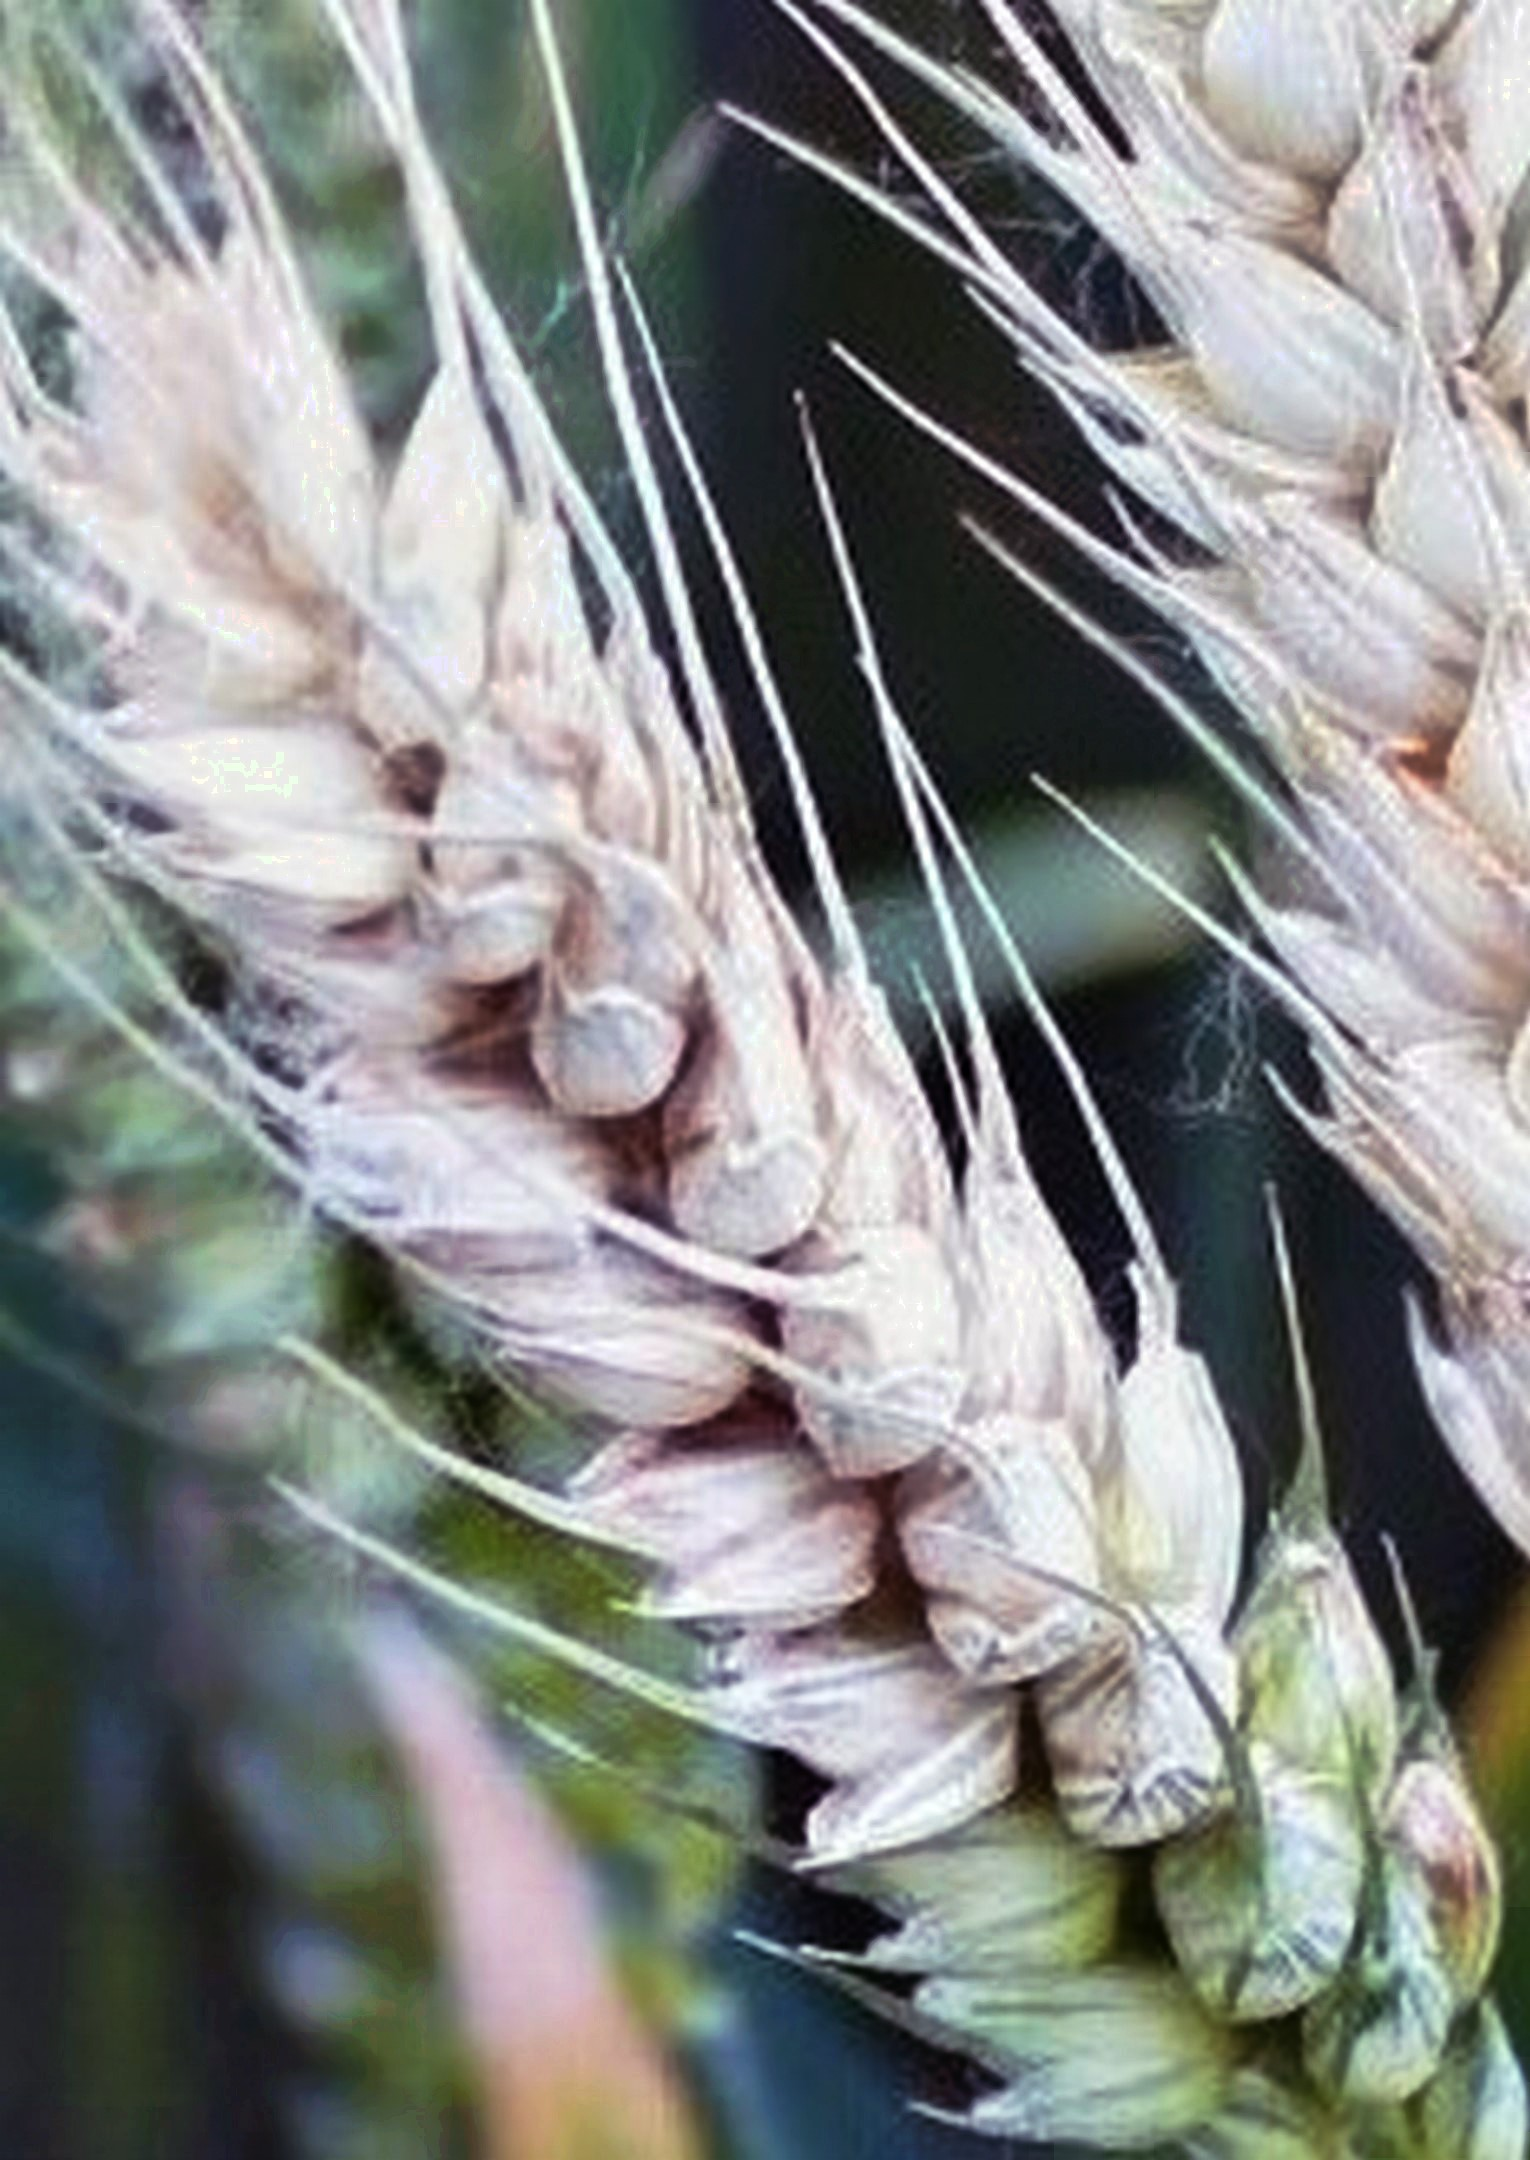Wheat scab: (694, 1180, 1530, 2160)
